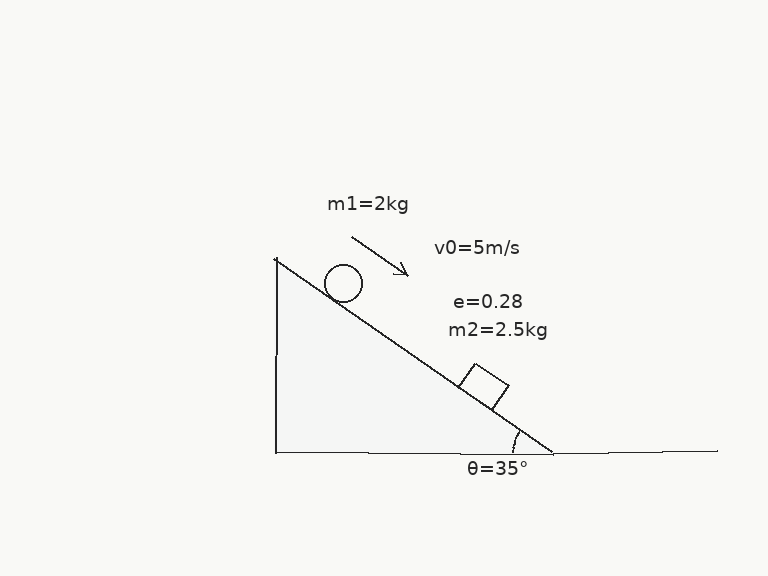ball: (322, 262, 364, 304)
block: (456, 361, 509, 411)
ramp: (272, 256, 555, 455)
